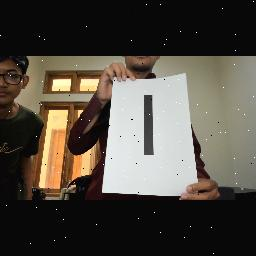i: (140, 92, 158, 164)
